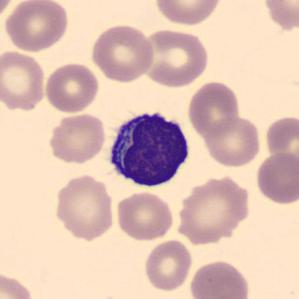Lymphocyte: (102, 105, 195, 192)
RBC: (174, 173, 252, 246), (138, 27, 211, 89), (52, 172, 117, 241), (89, 22, 156, 83), (2, 0, 72, 53), (185, 79, 242, 138), (46, 111, 108, 165), (202, 115, 263, 168), (114, 189, 175, 242), (43, 60, 100, 115), (0, 49, 47, 112), (142, 238, 193, 292), (187, 258, 252, 299), (254, 150, 298, 206), (153, 0, 224, 26), (262, 113, 298, 164), (260, 0, 299, 33), (0, 270, 36, 299), (0, 0, 19, 22)
